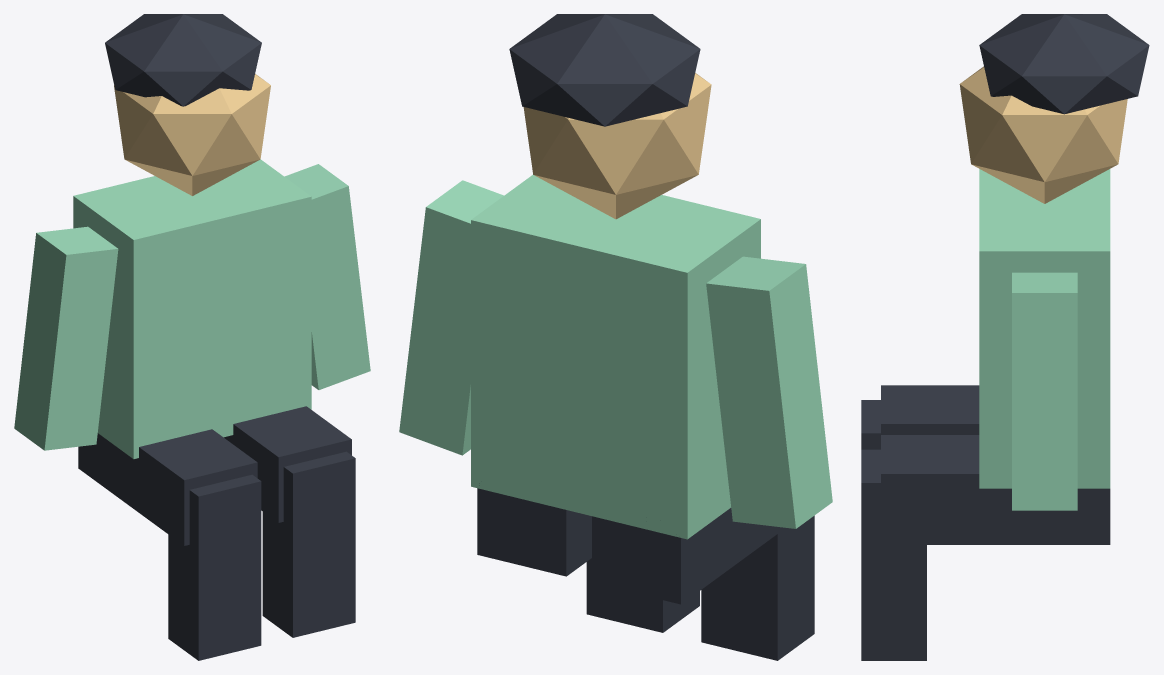
File: people_sitting.glb
3 views of the same model, side by side, from view 1: azimuth 30°, elevation 25°; view 2: azimuth 150°, elevation 25°; view 3: azimuth 270°, elevation 25° (orthographic). The views are drawn at different scales.
Visible parts, largest first — view 1: people_sitting; view 2: people_sitting; view 3: people_sitting.
Boxes of the visible parts, x1,y1,x2,y2 form: people_sitting: (14,14,370,660); people_sitting: (399,14,832,660); people_sitting: (861,14,1149,660).
Bounding box in the file's own units: 0.0623 × 0.102 × 0.044.
